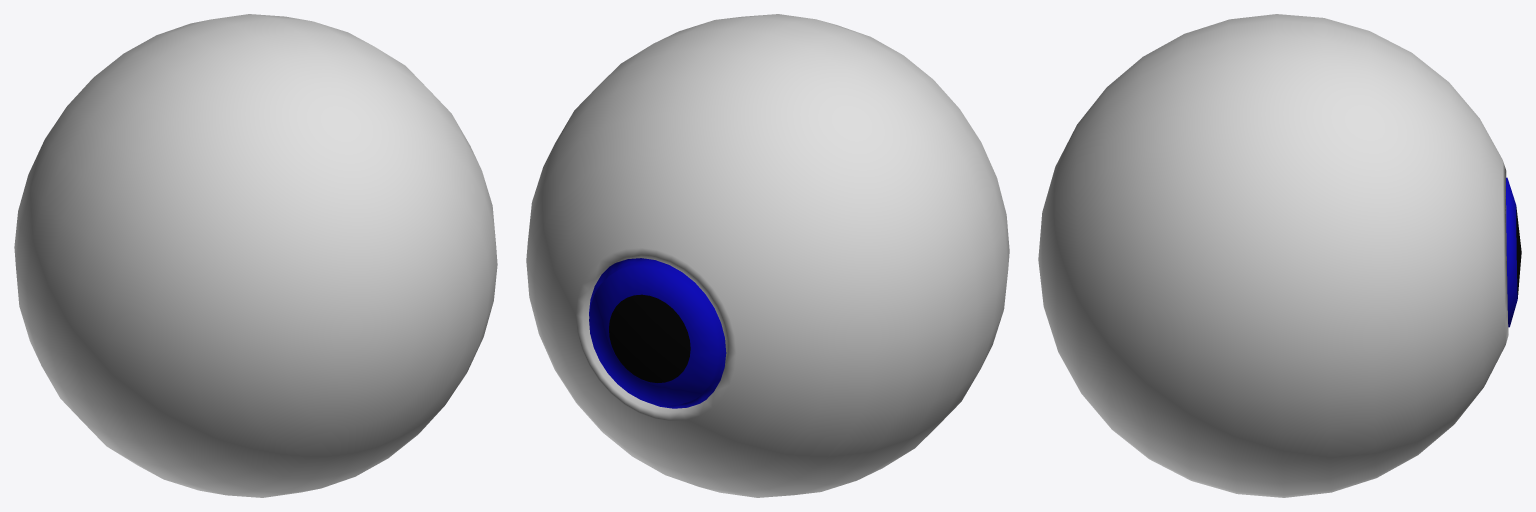
The model's file is Eyeball.dae.
3 views of the same model, side by side, from view 1: azimuth 30°, elevation 25°; view 2: azimuth 150°, elevation 25°; view 3: azimuth 270°, elevation 25° (orthographic).
Visible parts, largest first — view 1: NessieEyeballLeft; view 2: NessieEyeballLeft; view 3: NessieEyeballLeft.
Boxes of the visible parts, x1,y1,x2,y2 form: NessieEyeballLeft: [14, 14, 497, 497]; NessieEyeballLeft: [526, 14, 1009, 497]; NessieEyeballLeft: [1038, 14, 1521, 497].
Bounding box in the file's own units: 0.8741 × 0.8721 × 0.874.
